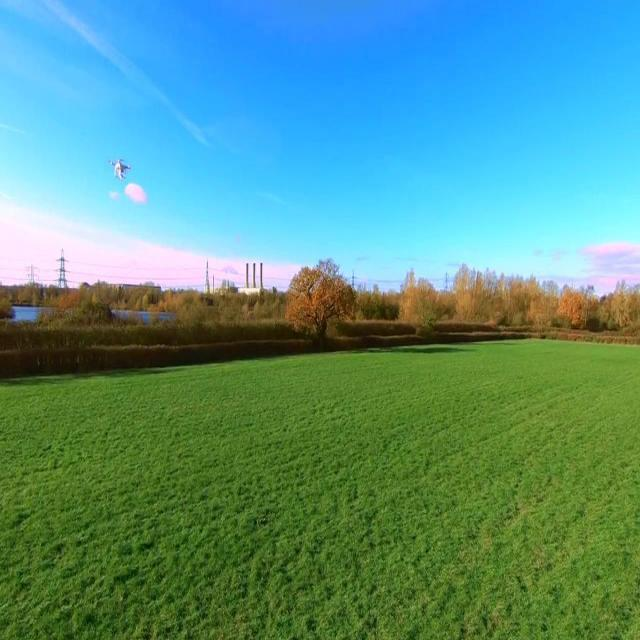UAV: (108, 158, 131, 182)
